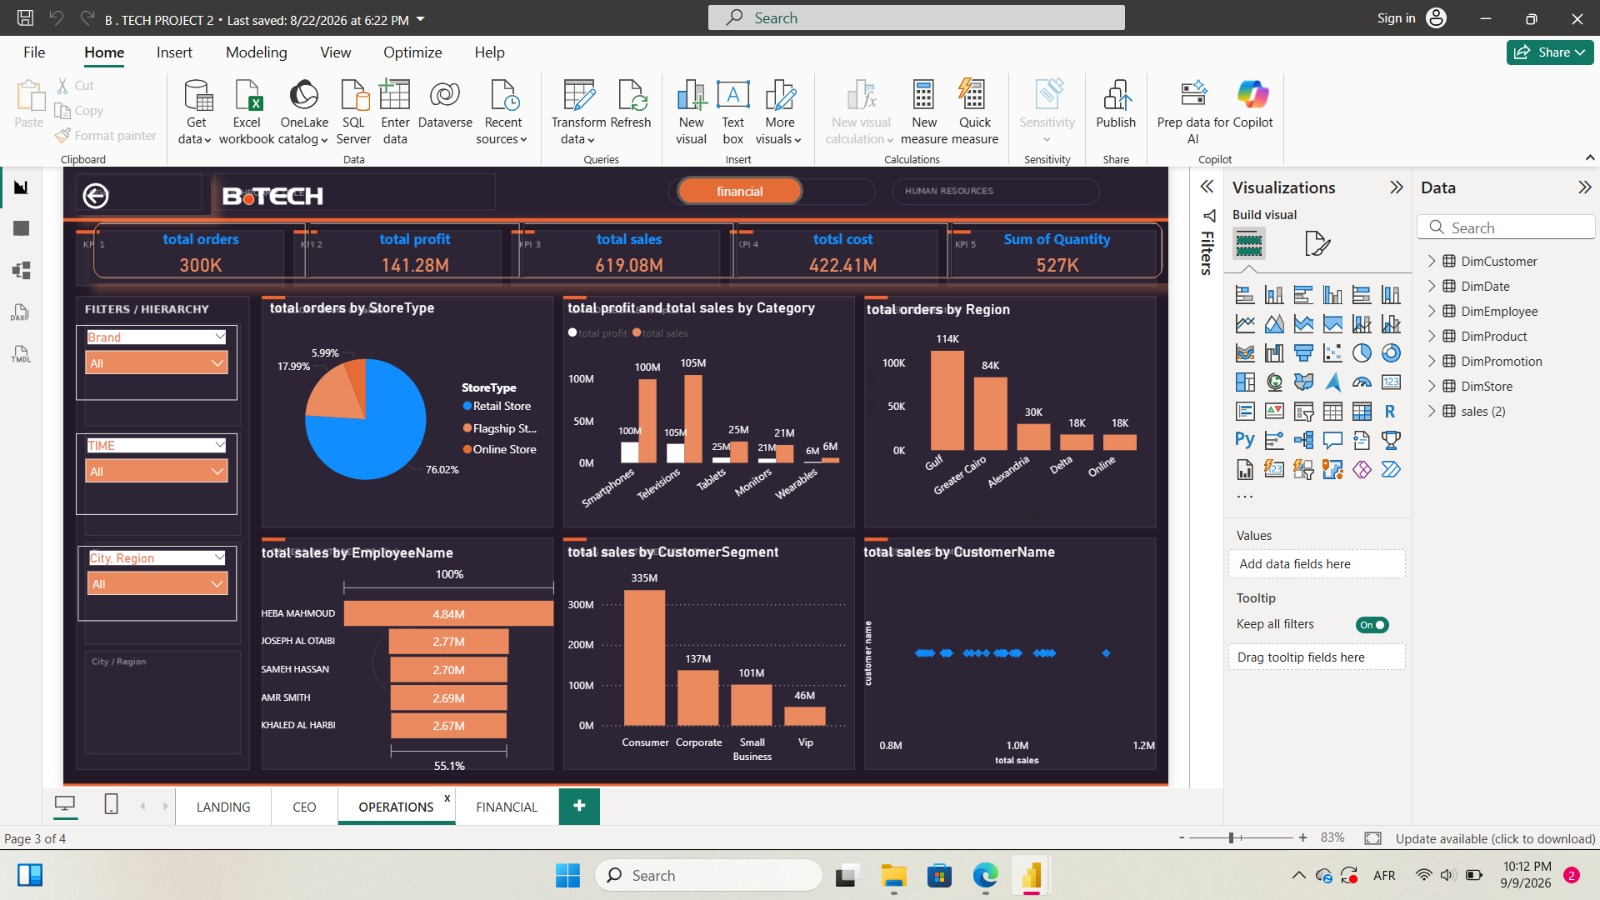

The page's visual inventory and layout, read from the dashboard file:
{"tool":"powerbi","page":{"name":"OPERATIONS","canvas":[1280,720],"ordinal":2},"visuals":[{"type":"clusteredColumnChart","fields":{"Category":["DimProduct.Category"],"Y":["sales (2).total profit","sales (2).total sales"]},"box":[578.8,153.8,347.5,260],"z":0},{"type":"pivotTable","fields":{"Rows":["DimProduct.SubCategory"],"Values":["sales (2).total orders","sales (2).total sales"],"Columns":["DimStore.StoreName"]},"box":[0,960,1314,210],"z":1000},{"type":"funnel","fields":{"Category":["DimEmployee.EmployeeName","DimEmployee.Department"],"Y":["sales (2).total sales"]},"box":[225,436.2,353.8,272.5],"z":2000},{"type":"actionButton","title":"operation","box":[710,11.2,146.2,33.8],"z":4000},{"type":"actionButton","box":[14.3,11.4,157.1,45.7],"z":5000},{"type":"slicer","fields":{"Values":["DimStore.City Hierarchy.City","DimStore.City Hierarchy.Region"]},"box":[42.9,728.6,231.4,85.7],"z":6000},{"type":"slicer","fields":{"Values":["DimProduct.Brand"]},"box":[14.3,182.9,187.1,87.1],"z":7000},{"type":"slicer","title":"time","fields":{"Values":["DimDate.Year Hierarchy.Year","DimDate.Year Hierarchy.Quarter","DimDate.Year Hierarchy.Month","DimDate.Year Hierarchy.Day"]},"box":[14.3,308.6,187.1,94.3],"z":8000},{"type":"cardVisual","fields":{"Data":["sales (2).total orders","sales (2).total profit","sales (2).total sales","sales (2).totsl cost","Sum(sales (2).Quantity)"]},"box":[30,58.6,1250,75.7],"z":9000},{"type":"slicer","fields":{"Values":["DimStore.City Hierarchy.City","DimStore.City Hierarchy.Region"]},"box":[17.1,438.6,184.3,87.1],"z":10000},{"type":"clusteredColumnChart","fields":{"Category":["DimStore.Region"],"Y":["sales (2).total orders"]},"box":[925.7,154.3,344.3,260],"z":11000},{"type":"columnChart","fields":{"Category":["DimCustomer.CustomerSegment"],"Y":["sales (2).total sales"]},"box":[578.6,435.7,335.7,262.9],"z":12000},{"type":"pieChart","fields":{"Category":["DimStore.StoreType"],"Y":["sales (2).total orders"]},"box":[233.8,153.8,328.8,260],"z":13000},{"type":"scatterChart","fields":{"Category":["DimCustomer.CustomerName"],"X":["sales (2).total sales"]},"box":[921.4,435.7,348.6,262.9],"z":14000},{"type":"image","box":[47.1,0,391.4,64.3],"z":15000}]}

Visuals, with their boxes on the page's 1280x720 design canvas (x1, y1, x2, y2). These are canvas units, not pixel positions in the 1600x900 screenshot, which may show the page scaled, cropped or inside an application window:
clusteredColumnChart - DimProduct.Category x sales (2).total profit: (579,154,926,414)
pivotTable - DimProduct.SubCategory x sales (2).total orders: (0,960,1314,1170)
funnel - DimEmployee.EmployeeName x DimEmployee.Department: (225,436,579,709)
"operation" actionButton: (710,11,856,45)
actionButton: (14,11,171,57)
slicer - DimStore.City Hierarchy.City x DimStore.City Hierarchy.Region: (43,729,274,814)
slicer - DimProduct.Brand: (14,183,201,270)
"time" slicer: (14,309,201,403)
cardVisual - sales (2).total orders x sales (2).total profit: (30,59,1280,134)
slicer - DimStore.City Hierarchy.City x DimStore.City Hierarchy.Region: (17,439,201,526)
clusteredColumnChart - DimStore.Region x sales (2).total orders: (926,154,1270,414)
columnChart - DimCustomer.CustomerSegment x sales (2).total sales: (579,436,914,699)
pieChart - DimStore.StoreType x sales (2).total orders: (234,154,563,414)
scatterChart - DimCustomer.CustomerName x sales (2).total sales: (921,436,1270,699)
image: (47,0,438,64)
